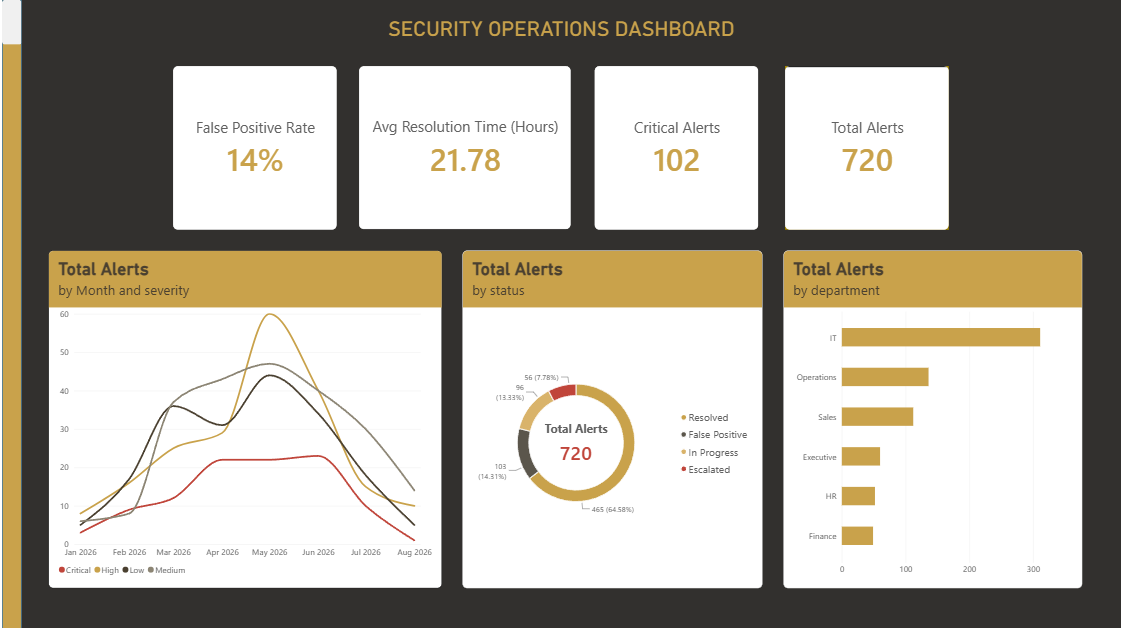

The page's visual inventory and layout, read from the dashboard file:
{"tool":"powerbi","page":{"name":"Executive Overview","canvas":[1920,1080],"ordinal":0},"visuals":[{"type":"cardVisual","fields":{"Data":["_Measures.Avg Resolution Time (Hours)"]},"box":[610.8,112.9,362.7,279.2],"z":0},{"type":"cardVisual","fields":{"Data":["_Measures.Critical Alerts"]},"box":[1014,112.9,280,280],"z":1000},{"type":"cardVisual","fields":{"Data":["_Measures.False Positive Rate"]},"box":[293.5,112.9,280,280],"z":2000},{"type":"cardVisual","fields":{"Data":["_Measures.Total Alerts"]},"box":[1338.5,112.9,280,280],"z":3000},{"type":"lineChart","fields":{"Category":["DateTable.Month.Variation.Date Hierarchy.Year"],"Series":["security_alerts_dataset.severity"],"Y":["_Measures.Total Alerts"]},"box":[78.7,429.5,672.8,577.4],"z":4000},{"type":"donutChart","fields":{"Category":["security_alerts_dataset.status"],"Y":["_Measures.Total Alerts"]},"box":[787.4,429.5,513,577.4],"z":5000},{"type":"clusteredBarChart","fields":{"Category":["security_alerts_dataset.department"],"Y":["_Measures.Total Alerts"]},"box":[1336.1,429.5,510.6,577.4],"z":6000},{"type":"textbox","title":"SECURITY OPERATIONS DASHBOARD","box":[656.1,28.6,600,47.7],"z":6001},{"type":"shape","box":[0,0,33.4,1080.8],"z":6002},{"type":"actionButton","box":[0,0,33.4,76.3],"z":6003}]}

Visuals, with their boxes in screenshot pixels (x1, y1, x2, y2), scaled from the page's 1920x1080 canvas onto the 1121x628 screenshot:
cardVisual - _Measures.Avg Resolution Time (Hours): [left=357, top=66, right=568, bottom=228]
cardVisual - _Measures.Critical Alerts: [left=592, top=66, right=756, bottom=228]
cardVisual - _Measures.False Positive Rate: [left=171, top=66, right=335, bottom=228]
cardVisual - _Measures.Total Alerts: [left=781, top=66, right=945, bottom=228]
lineChart - DateTable.Month.Variation.Date Hierarchy.Year x security_alerts_dataset.severity: [left=46, top=250, right=439, bottom=585]
donutChart - security_alerts_dataset.status x _Measures.Total Alerts: [left=460, top=250, right=759, bottom=585]
clusteredBarChart - security_alerts_dataset.department x _Measures.Total Alerts: [left=780, top=250, right=1078, bottom=585]
"SECURITY OPERATIONS DASHBOARD" textbox: [left=383, top=17, right=733, bottom=44]
shape: [left=0, top=0, right=20, bottom=627]
actionButton: [left=0, top=0, right=20, bottom=44]
